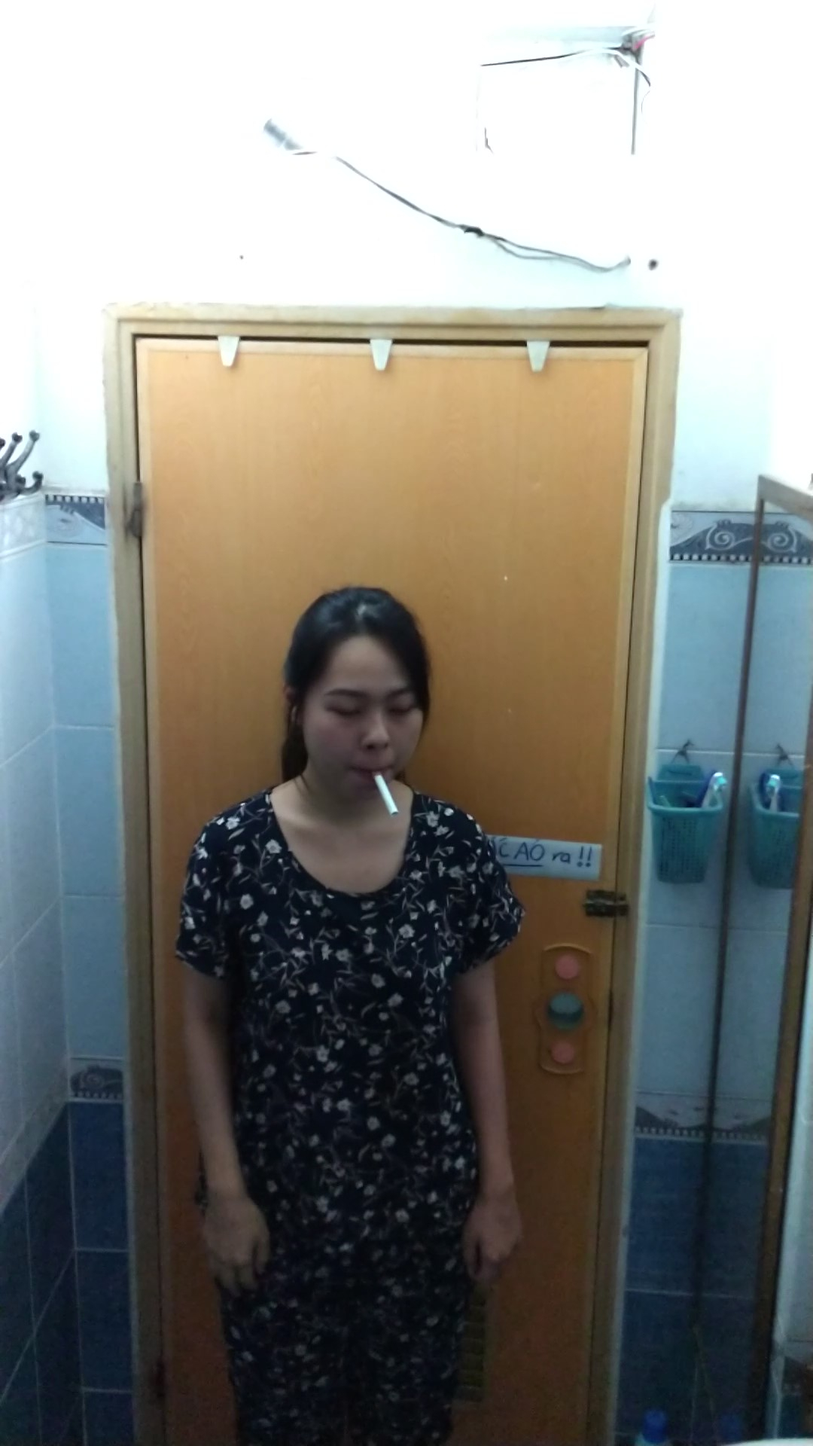cigarette: (368, 773, 401, 822)
person: (171, 580, 547, 1446)
